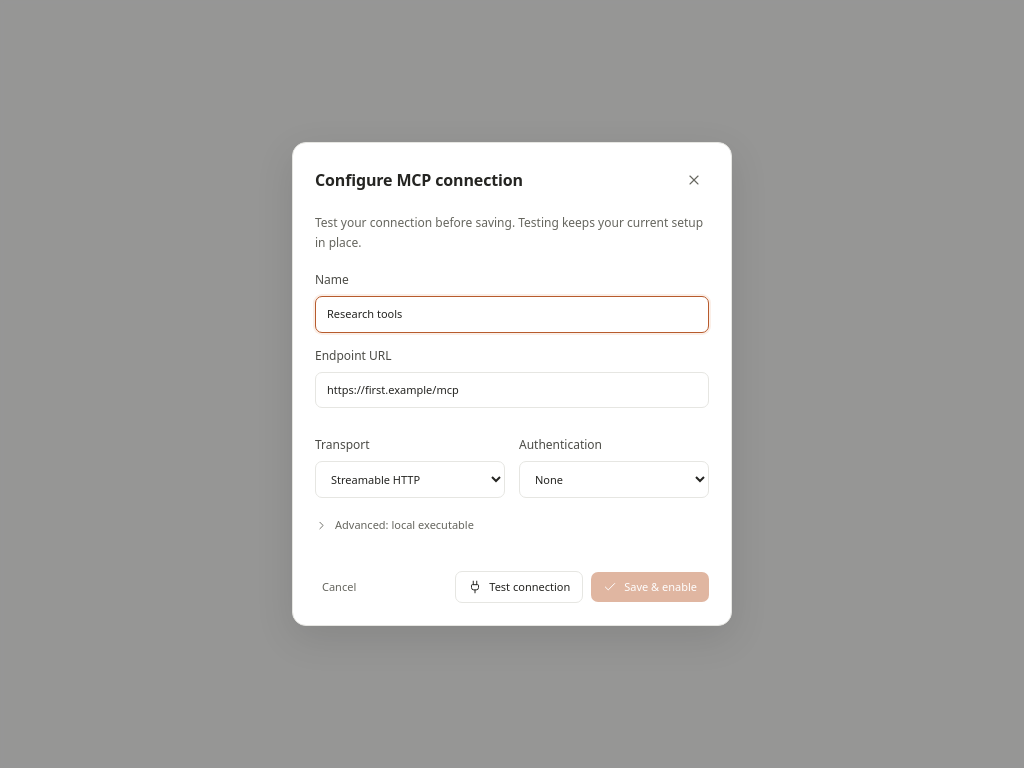
Test: MCP setup lifecycle › keeps a saved verification failure disabled and gives a usable retry
What coordinates should you click on to do the following:
click the button "Test connection"
I would click on:
 (519, 587)
Its box is [455,571,583,603].
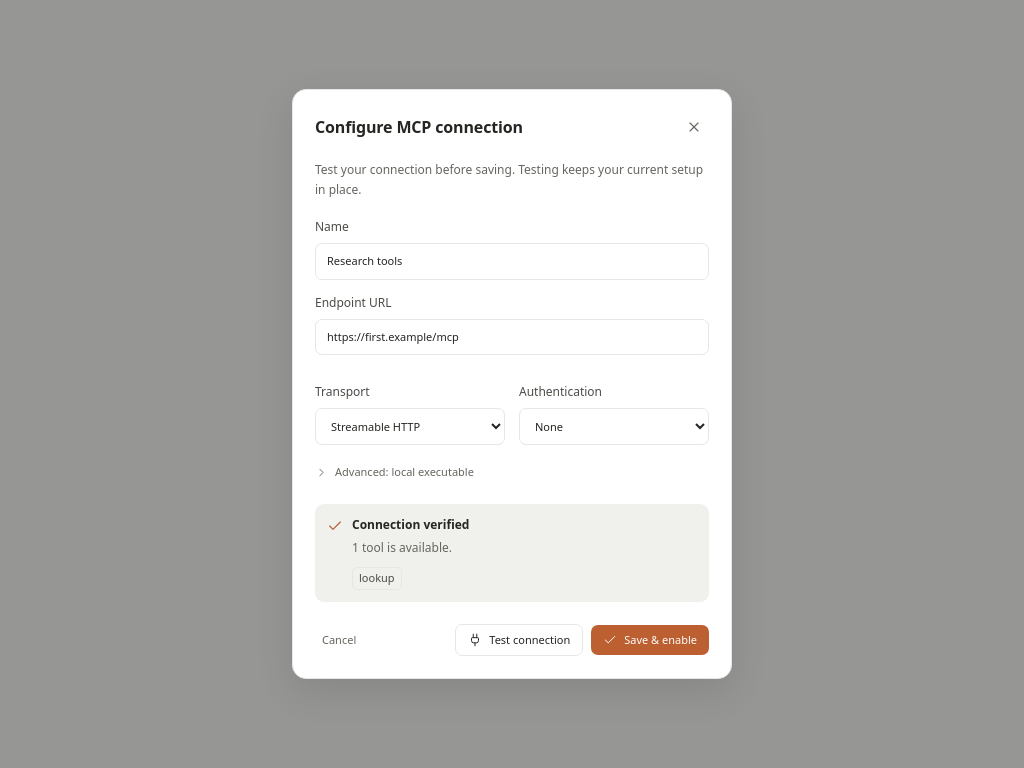
Result: the text "Connection verified" is shown at [352,516,469,533]
What coordinates should you click on to do the following:
click the button "Save & enable"
I would click on:
 (650, 640)
Its box is [591,625,709,655].
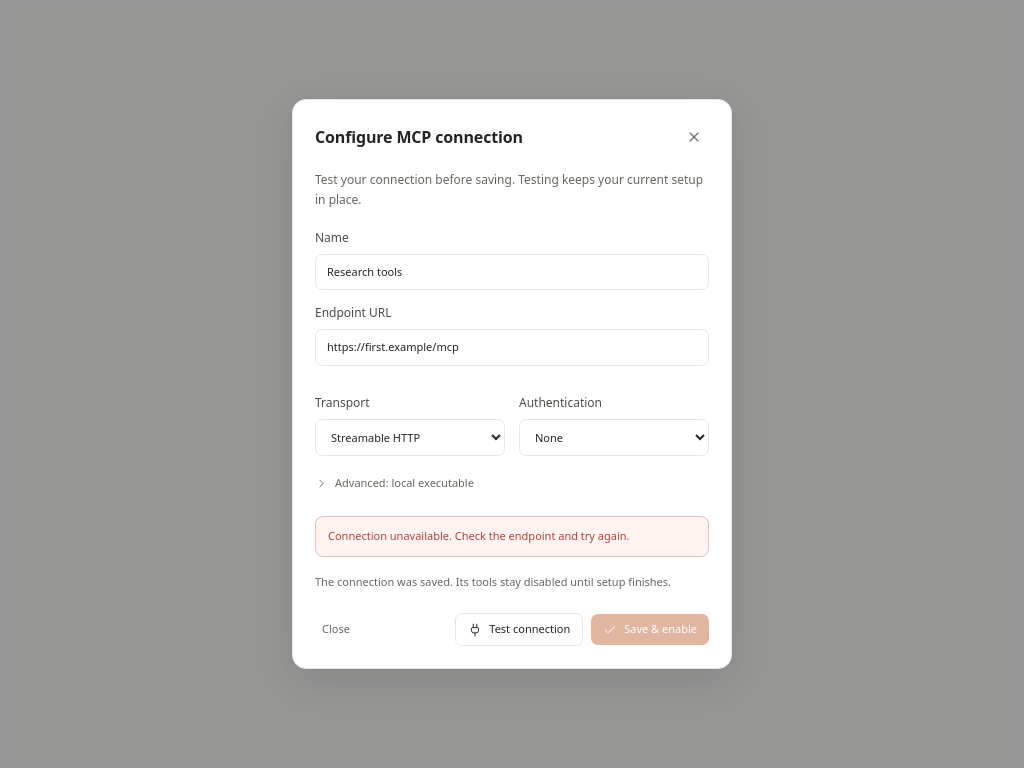
Expected: the button "Test connection" is enabled, [455,614,583,646]
Result: the message shows "Connection unavailable." at [328,528,630,543]
Result: the text "The connection was saved. Its tools stay disabled until setup finishes." is shown at [315,573,709,592]
